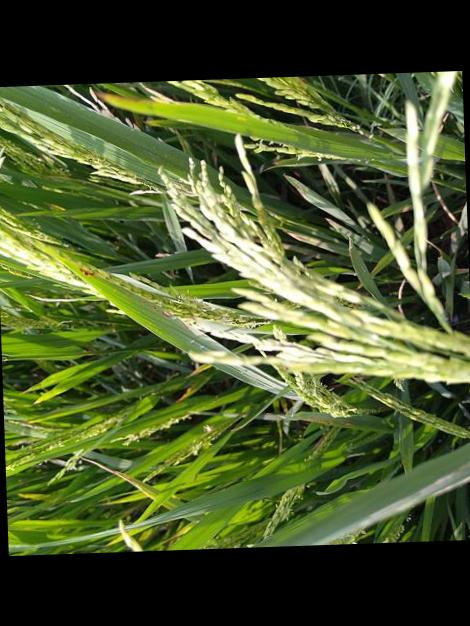Panicle Blight: (169, 167, 470, 381)
